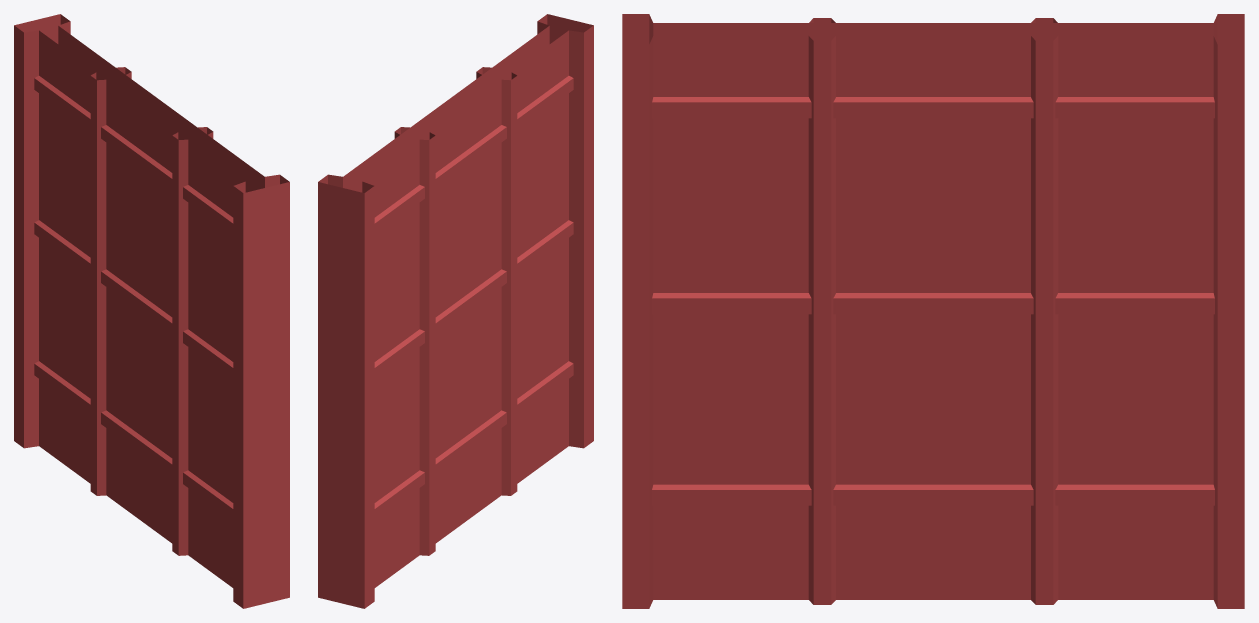
The model's file is SM_VALVE_WALL_4M_03.fbx.
3 renders of one model, left to right at view 1: azimuth 30°, elevation 25°; view 2: azimuth 150°, elevation 25°; view 3: azimuth 270°, elevation 25°, orthographic. The views are drawn at different scales.
Visible parts, largest first — view 1: SM_VALVE_WALL_4M_03; view 2: SM_VALVE_WALL_4M_03; view 3: SM_VALVE_WALL_4M_03.
Boxes of the visible parts, box(x1,y1,x2,y2) form: SM_VALVE_WALL_4M_03: box(14, 14, 289, 608); SM_VALVE_WALL_4M_03: box(318, 14, 593, 608); SM_VALVE_WALL_4M_03: box(622, 14, 1244, 608).
Bounding box in the file's own units: 0.4675 × 4 × 4.
